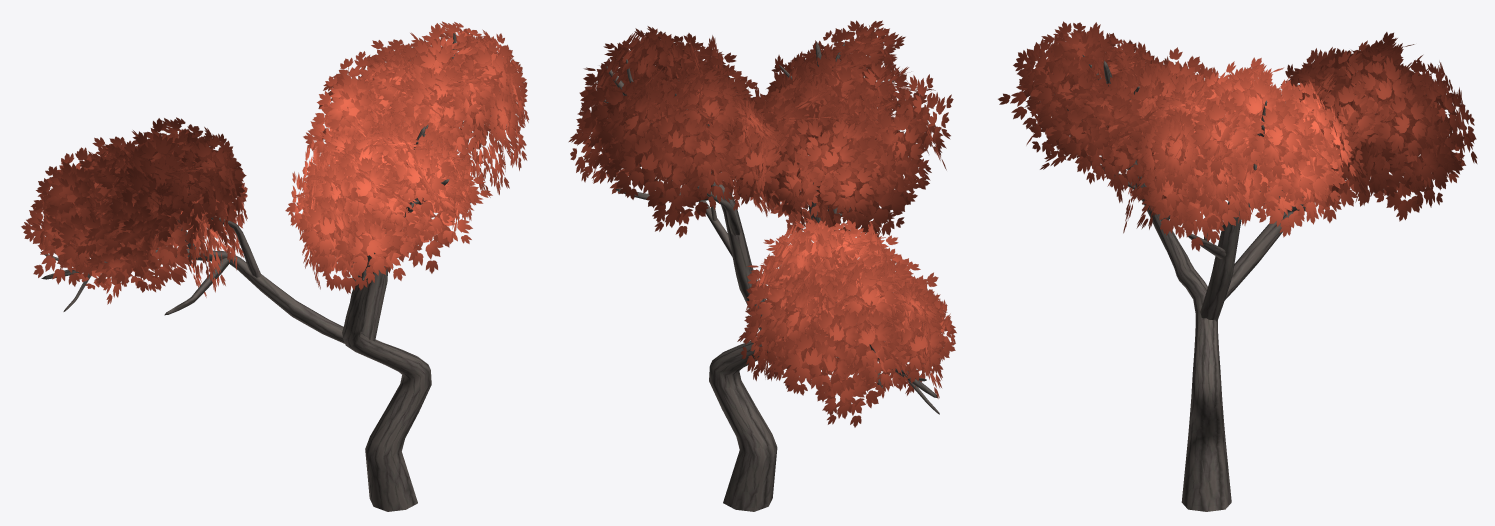
Rendered from GoldenMaple.glb.
3 views of the same model, side by side, from view 1: azimuth 30°, elevation 25°; view 2: azimuth 150°, elevation 25°; view 3: azimuth 270°, elevation 25° (orthographic). The views are drawn at different scales.
Parts seen in each view (by area): view 1: MapleTree_2; view 2: MapleTree_2; view 3: MapleTree_2.
Boxes of the visible parts, box(x1,y1,x2,y2) form: MapleTree_2: box(21, 21, 529, 511); MapleTree_2: box(568, 20, 956, 511); MapleTree_2: box(998, 21, 1477, 511).
Size of the model in its own units: 6.7 by 6.71 by 6.24.
Materials: 2 (2 with a texture image).
